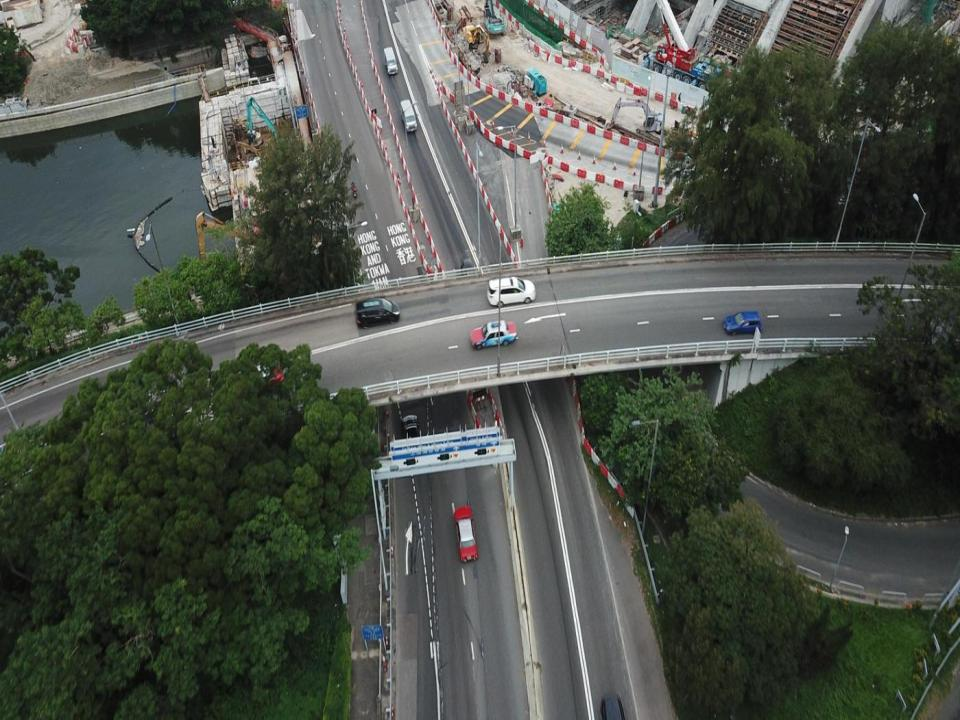car: (217, 358, 286, 398), (355, 296, 402, 330), (488, 277, 536, 308), (454, 503, 478, 562), (470, 321, 516, 349), (724, 311, 761, 336), (400, 413, 422, 455), (600, 694, 624, 719)
van: (400, 98, 418, 132), (382, 43, 398, 76)
